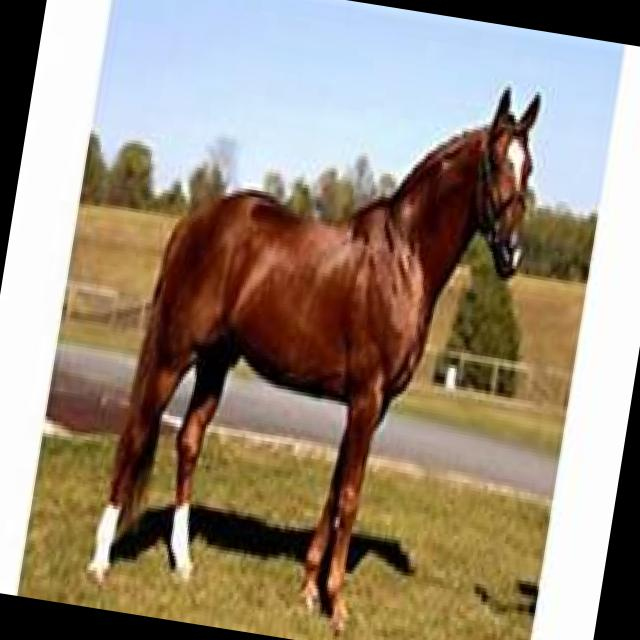animal: (36, 0, 600, 640)
